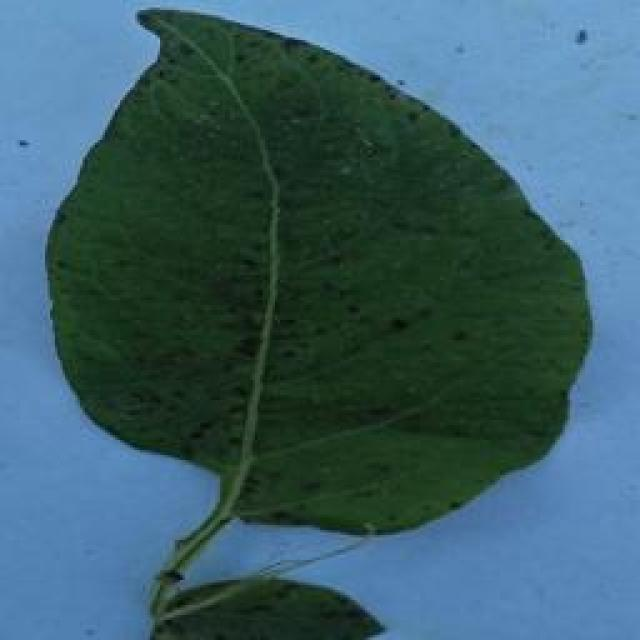Potato_Early_Blight: (38, 4, 608, 541)
